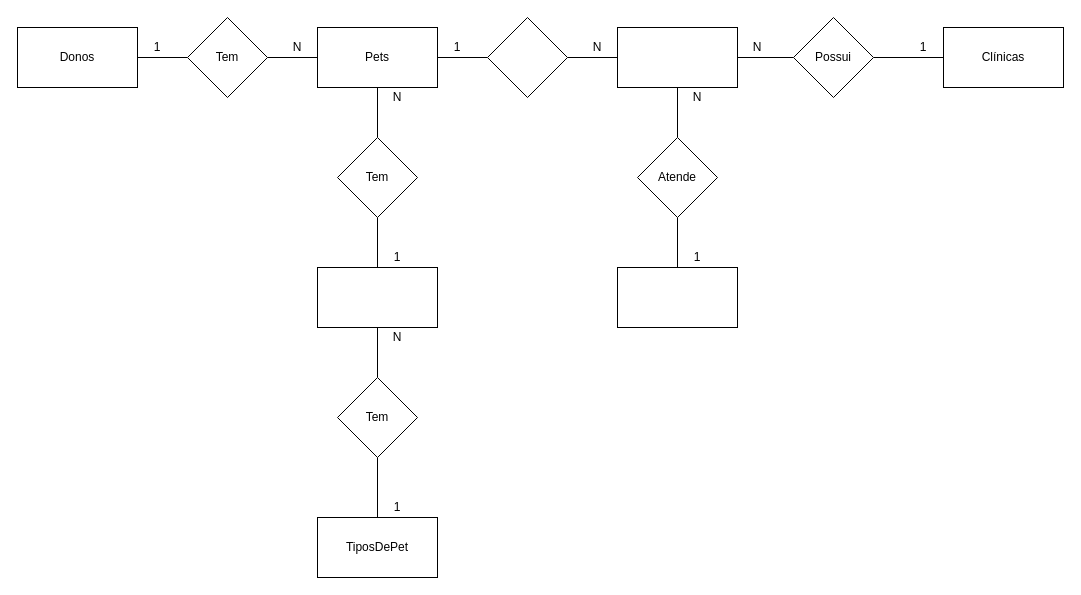
Image size: 1081x595. Some labels were removed from this diagram. The shapes that lost their labels are listed below. From the top down, each one's box as (x1, y1, x2, y2) in pixels, then its label:
(486, 16, 568, 98): Atendido
(616, 26, 738, 88): Consultas
(316, 266, 438, 328): Raças
(616, 266, 738, 328): Veterinários
